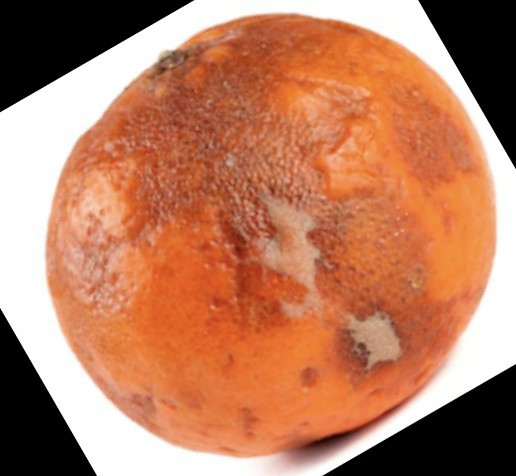rotten_orange: (49, 16, 495, 459)
